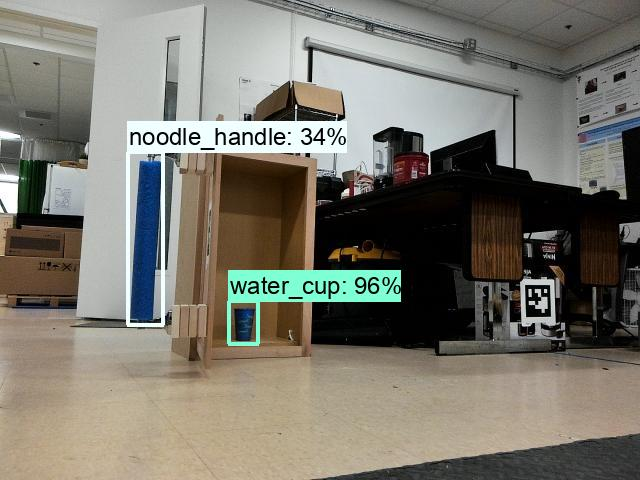noodle_handle: (131, 155, 162, 320)
water_cup: (229, 304, 260, 343)
